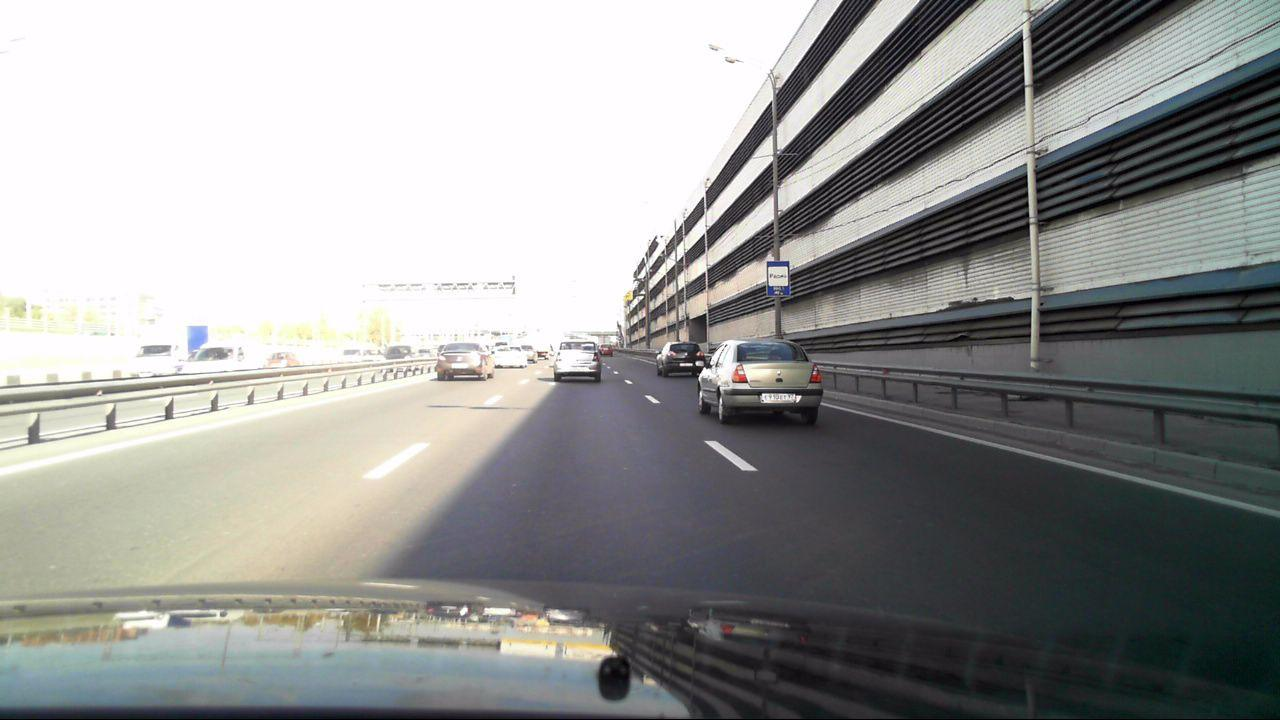7_15: (766, 261, 790, 296)
